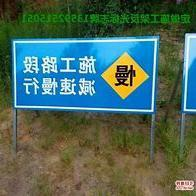sign: (12, 37, 159, 113)
